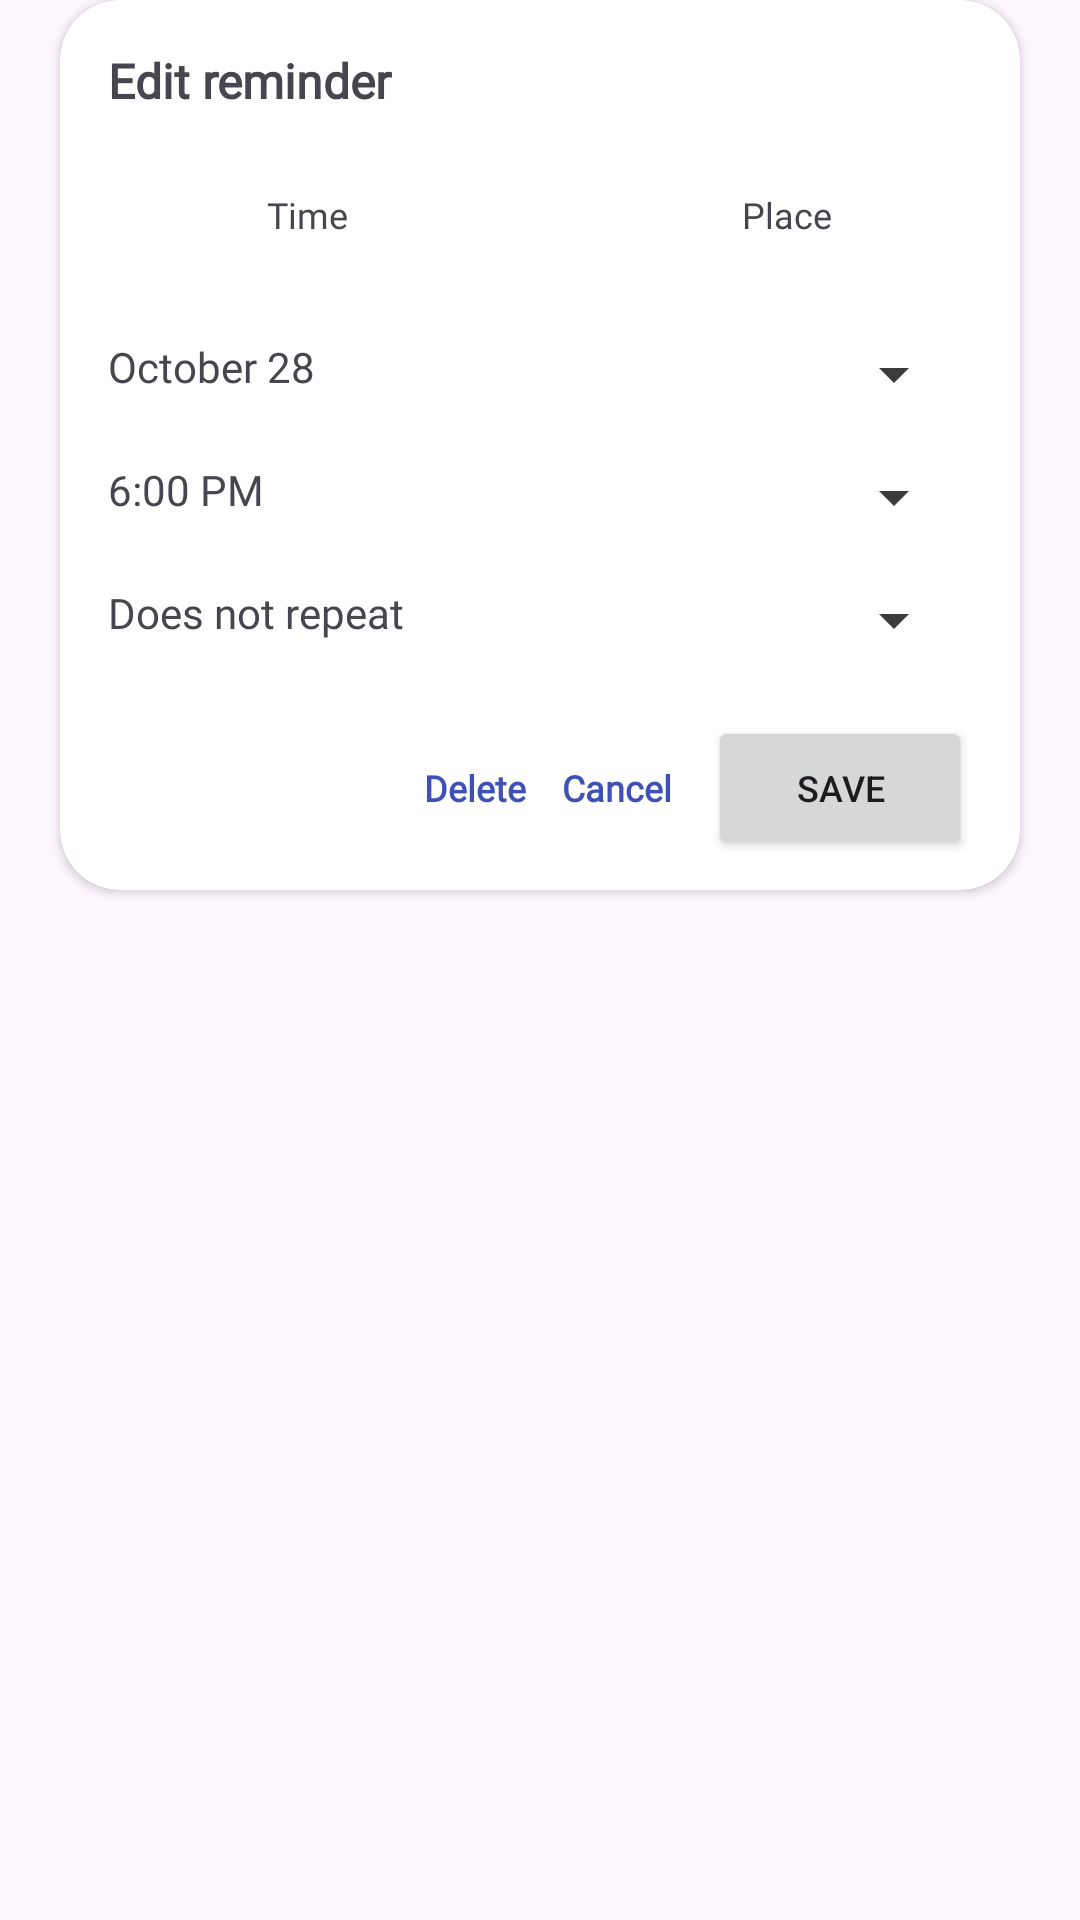

Locate icon controls on the screen. Image size 1080*1920, boxes as (x1, y1, x2, y2).
drop down: (879, 368, 909, 383), (879, 491, 909, 506), (879, 614, 909, 629)
